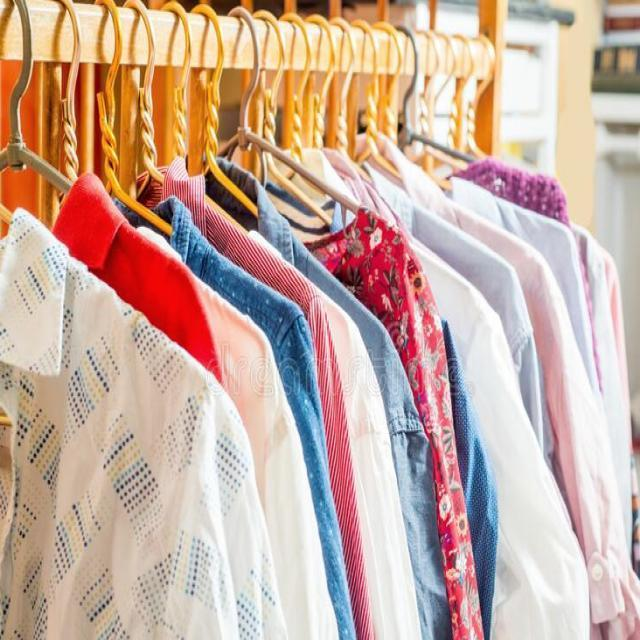clothes: (9, 246, 620, 640)
